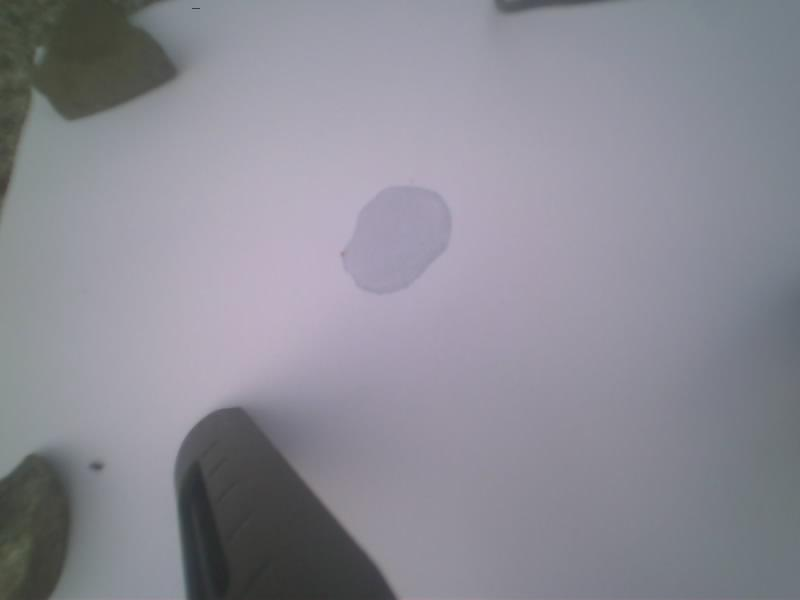Ant: (87, 461, 105, 472)
